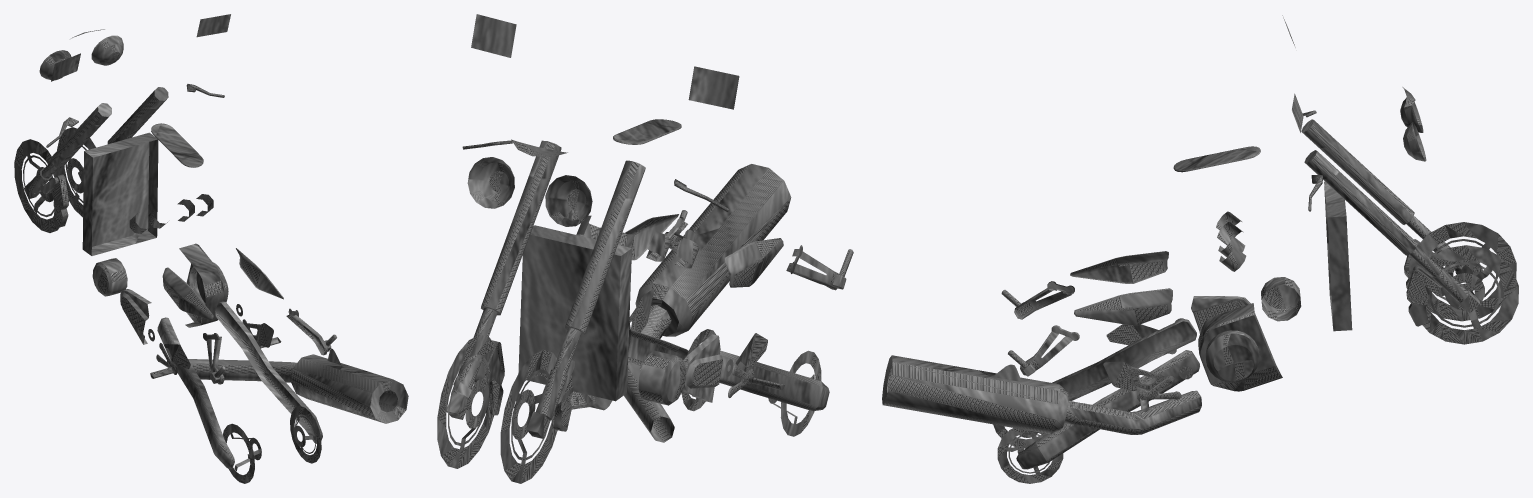
The model's file is bike4.obj.
3 renders of one model, left to right at view 1: azimuth 30°, elevation 25°; view 2: azimuth 150°, elevation 25°; view 3: azimuth 270°, elevation 25°, orthographic. The views are drawn at different scales.
Bounding box in the file's own units: 855 × 1586 × 2289.
1 material, 1 textured.
